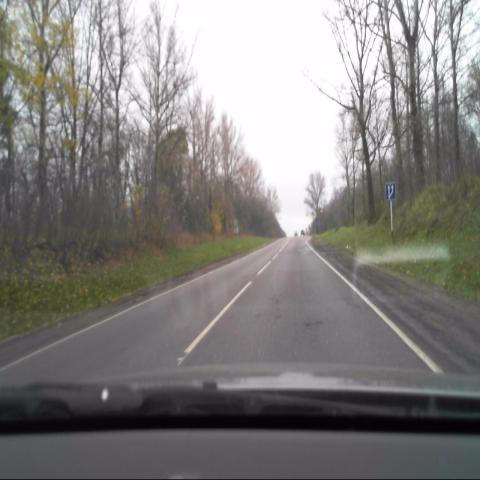5_15_3: (386, 182, 396, 201)
